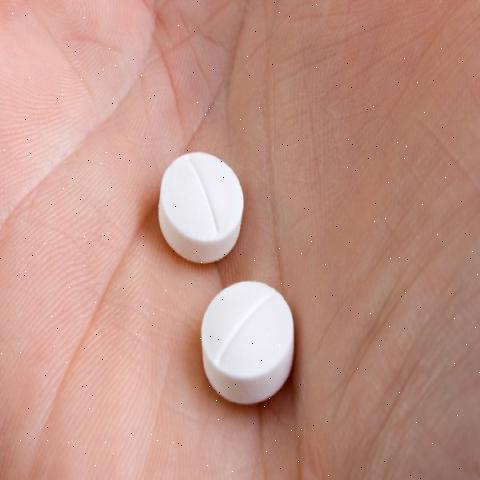Pill: (149, 126, 263, 272), (194, 271, 308, 413)
